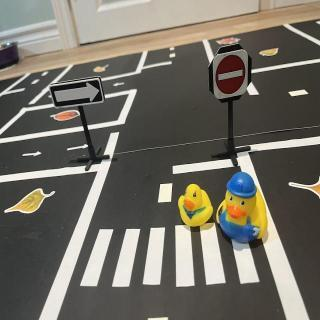duck_regular: (178, 185, 214, 229)
duck_specialty: (218, 173, 270, 245)
road_crosswalk: (76, 221, 264, 289)
road_oneway: (65, 142, 93, 154), (21, 151, 43, 160), (113, 79, 129, 90)
sign_noentry: (215, 49, 249, 101)
sign_oneway_right: (50, 76, 106, 109)
